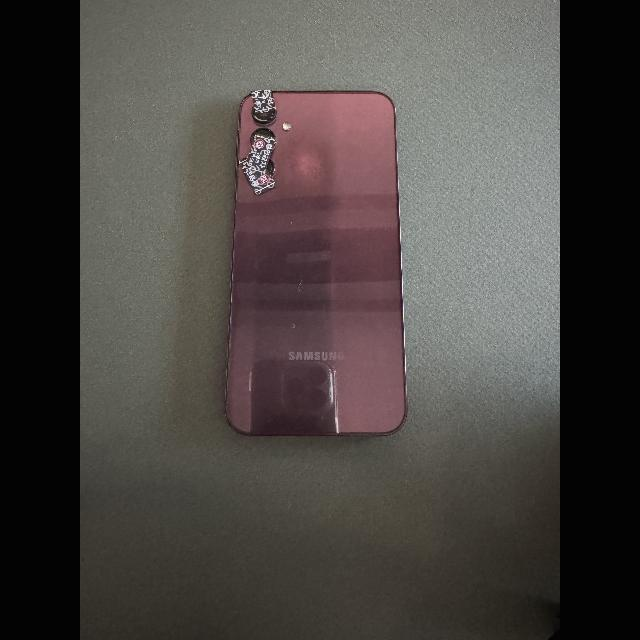lens: (251, 128, 275, 145), (253, 111, 277, 123), (268, 163, 273, 174)
phone: (225, 90, 406, 437)
sticker: (238, 156, 276, 194), (244, 133, 275, 176), (250, 88, 277, 114)
